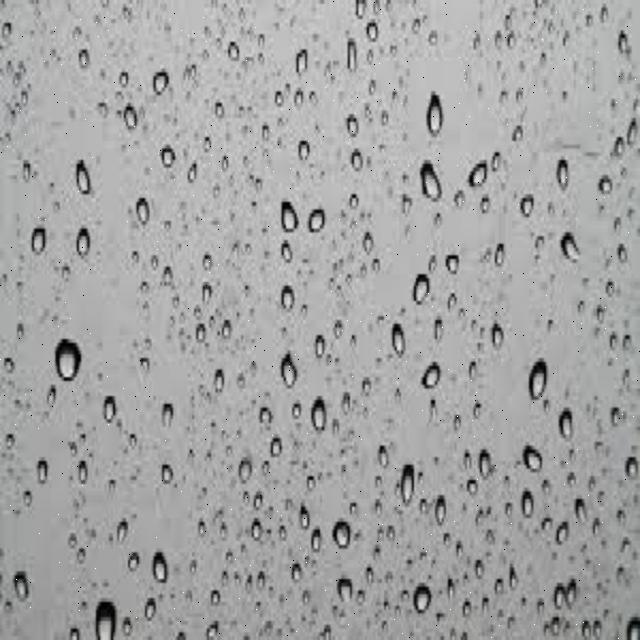raindrop: (47, 321, 87, 407), (373, 302, 418, 378), (411, 147, 451, 229), (258, 272, 299, 346), (420, 85, 456, 167), (302, 387, 336, 464), (528, 343, 556, 434), (395, 446, 426, 518), (91, 582, 125, 640), (272, 342, 306, 400), (68, 144, 100, 204), (412, 259, 438, 328), (24, 218, 56, 271), (70, 216, 98, 270), (282, 188, 307, 248), (412, 350, 447, 387)
